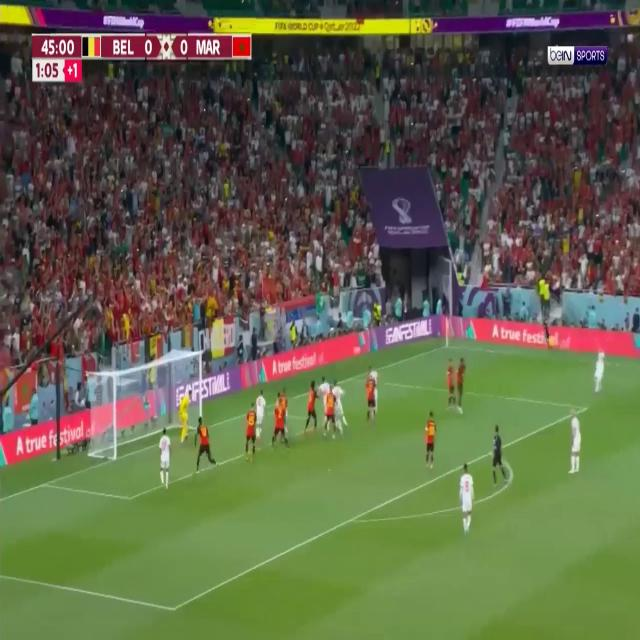team1: (193, 418, 215, 475), (241, 402, 258, 464), (424, 408, 438, 473), (304, 378, 318, 433), (276, 399, 290, 452), (457, 354, 467, 419), (448, 354, 455, 414), (327, 391, 336, 432), (367, 375, 373, 419), (282, 388, 290, 408)
team2: (456, 462, 477, 538), (562, 406, 584, 476), (589, 341, 610, 404), (156, 423, 171, 497), (254, 384, 266, 450), (336, 376, 346, 438), (319, 372, 329, 421), (372, 366, 378, 414), (276, 393, 281, 403)
